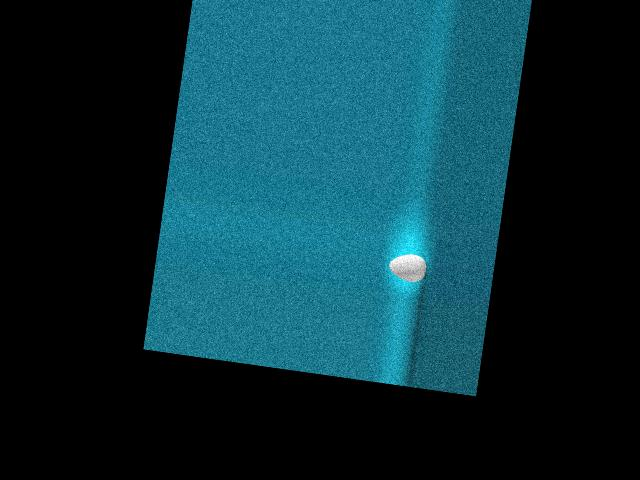egg: (387, 251, 428, 284)
